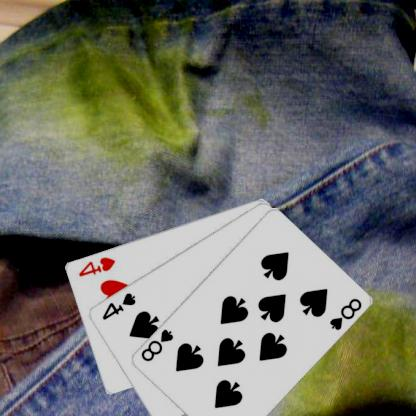4H: (78, 254, 118, 278)
4S: (101, 290, 139, 321)
8S: (328, 295, 364, 332), (140, 326, 176, 362)
